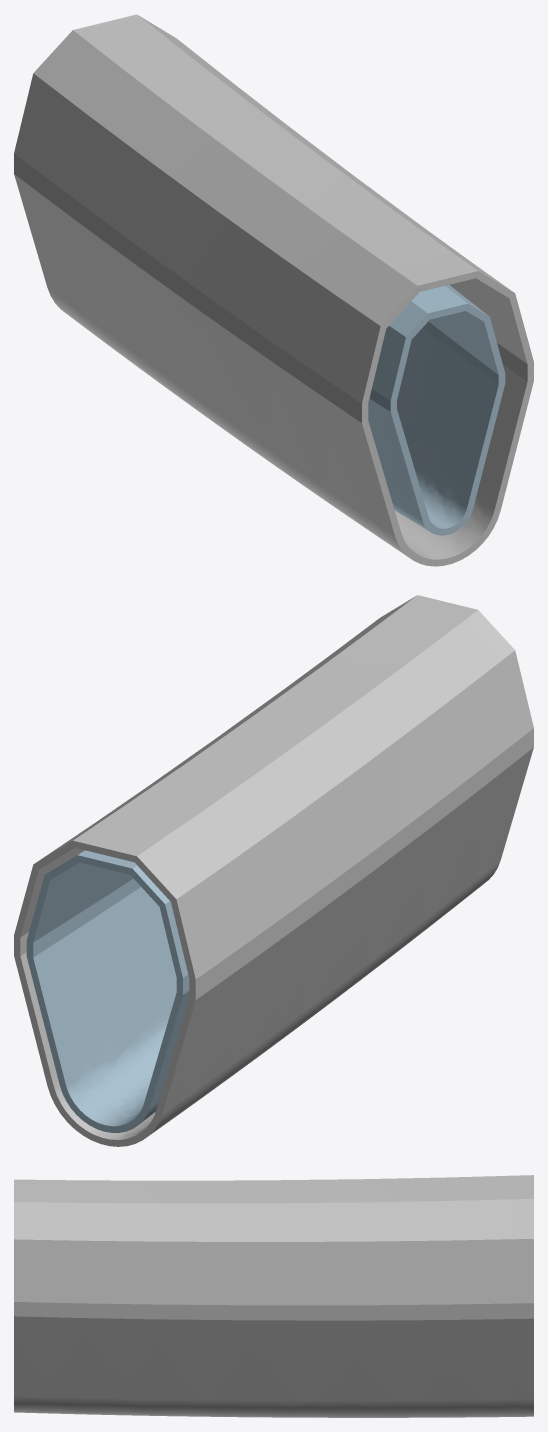
File: Test swords.glb
3 renders of one model, top to bottom at view 1: azimuth 30°, elevation 25°; view 2: azimuth 150°, elevation 25°; view 3: azimuth 270°, elevation 25°, orthographic. The views are drawn at different scales.
Size of the model in its own units: 22.7 by 35.61 by 74.18.
